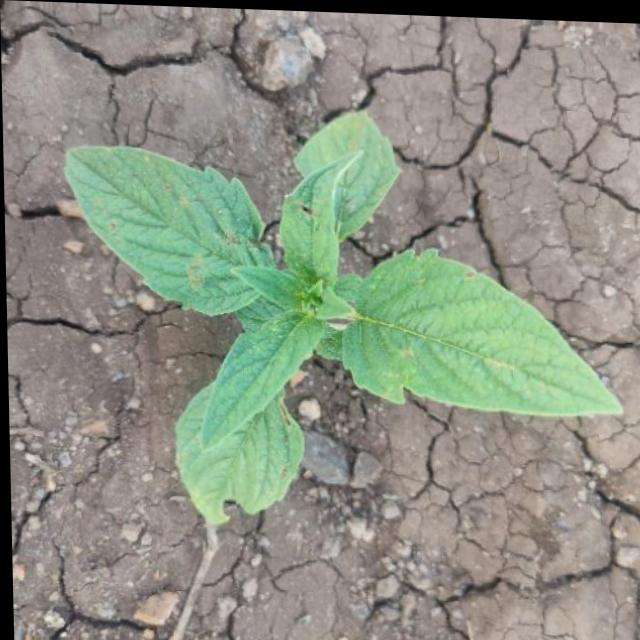weed: (58, 94, 623, 550)
